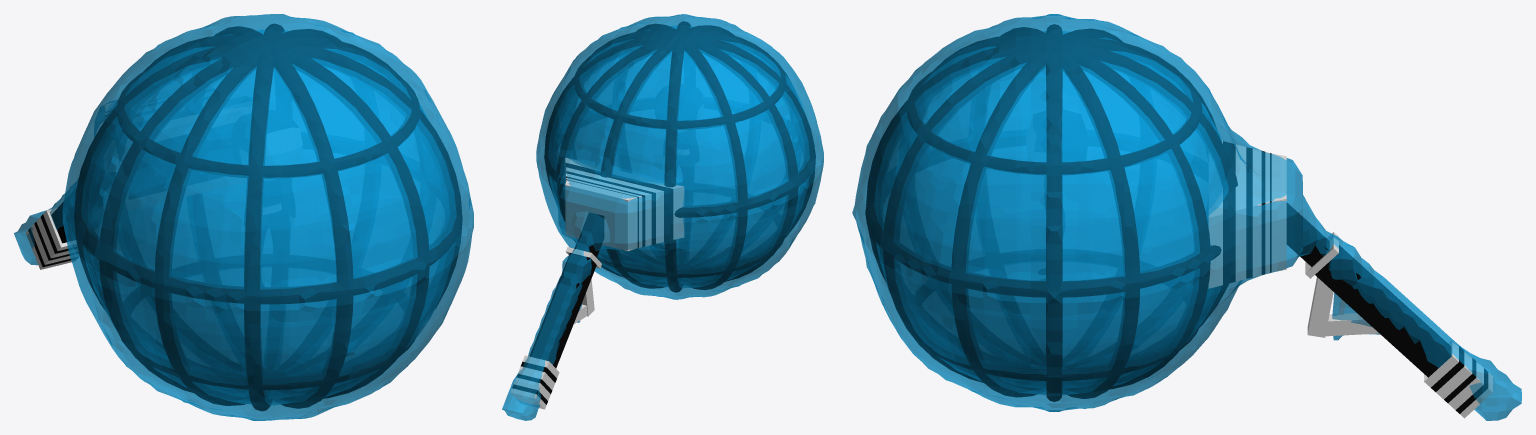
File: Gun5.fbx
The picture shows the model from 3 angles, left to right: view 1: azimuth 30°, elevation 25°; view 2: azimuth 150°, elevation 25°; view 3: azimuth 270°, elevation 25°; orthographic projection. The views are drawn at different scales.
Visible parts, largest first — view 1: Cube, Cube.001; view 2: Cube, Cube.001; view 3: Cube, Cube.001.
Boxes of the visible parts, x1,y1,x2,y2 form: Cube: (14, 14, 473, 420); Cube.001: (26, 24, 462, 410); Cube: (502, 14, 823, 420); Cube.001: (510, 21, 815, 409); Cube: (852, 14, 1521, 420); Cube.001: (865, 24, 1492, 418).
Bounding box in the file's own units: 195 × 205 × 322.
